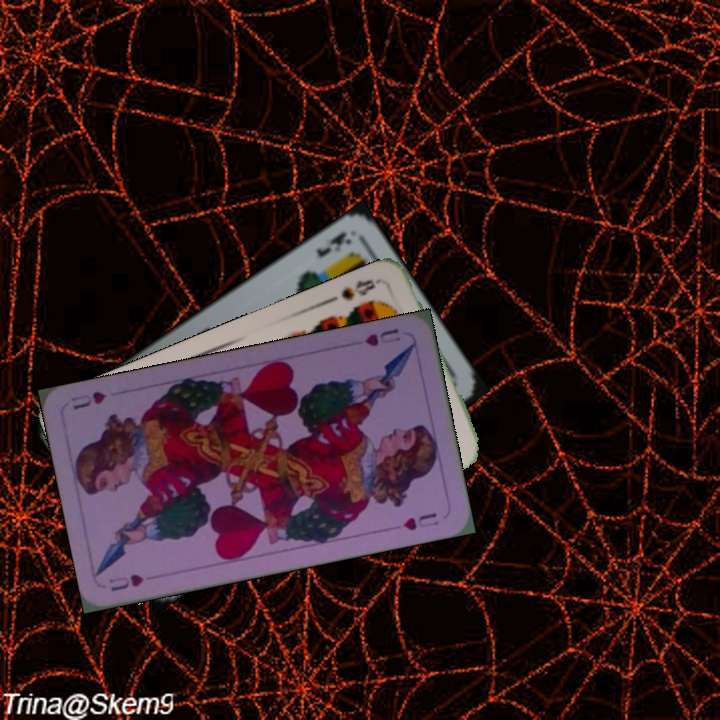EK: (311, 227, 354, 261)
HU: (360, 324, 403, 349), (105, 569, 146, 594)
S8: (337, 274, 387, 303)
